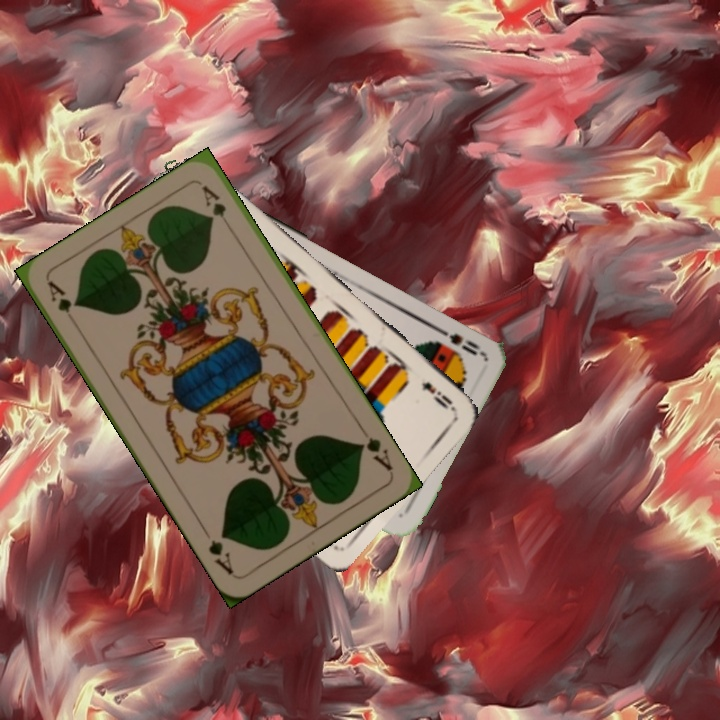E9: (417, 377, 457, 413)
GA: (355, 423, 396, 474), (43, 277, 82, 330)
SO: (431, 322, 486, 358)
